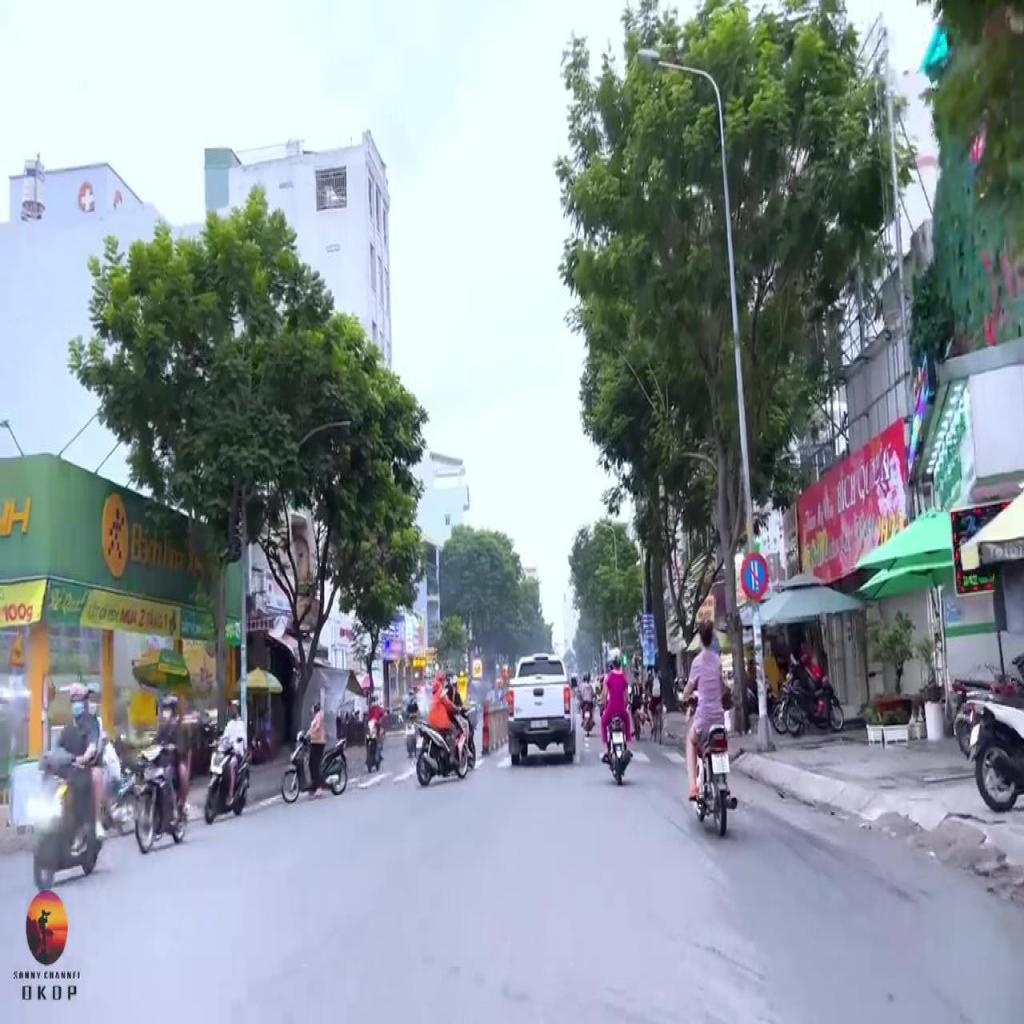cam_do_xe: (740, 552, 768, 600)
